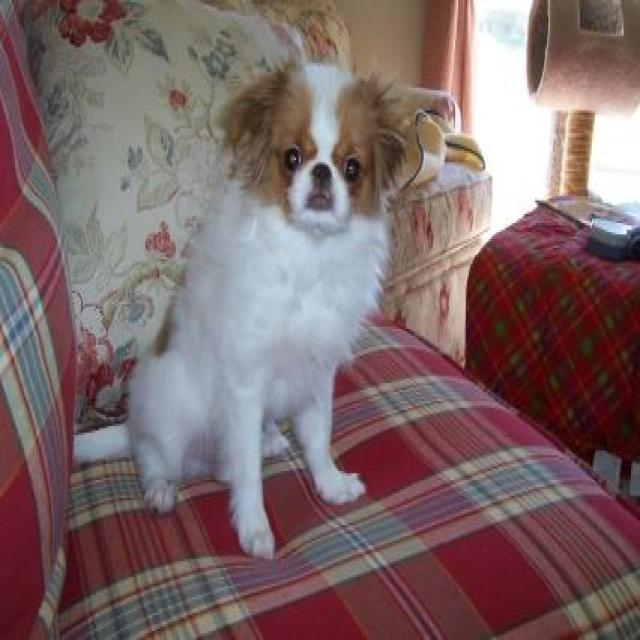husky: (74, 56, 408, 564)
